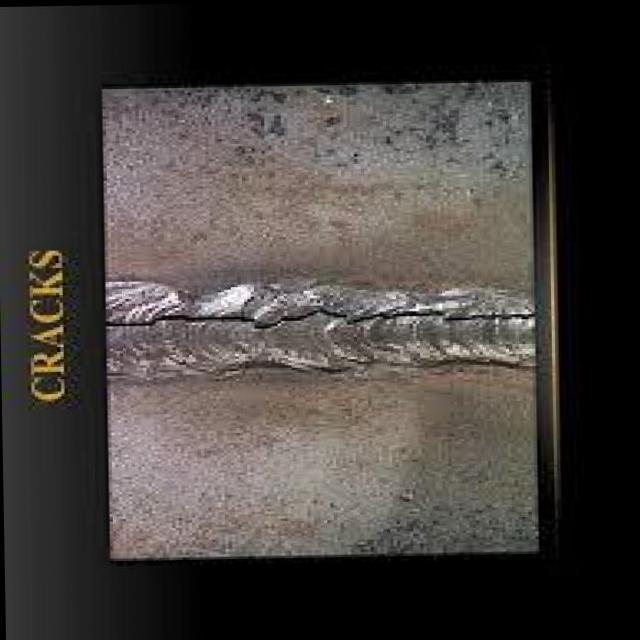defect: (102, 299, 537, 331)
